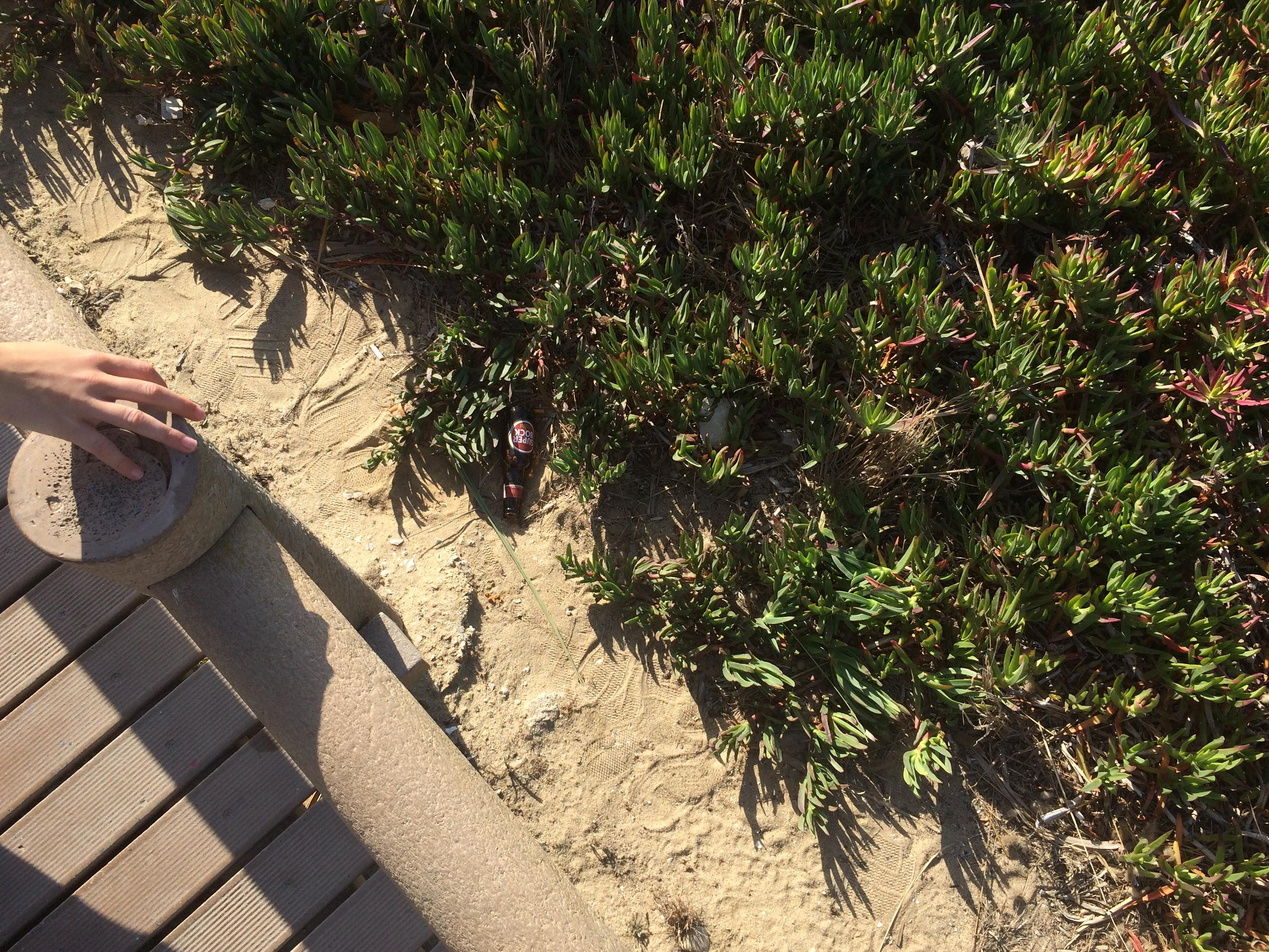garbage: (499, 406, 535, 518), (161, 98, 182, 121), (369, 344, 386, 359), (363, 345, 369, 355)
